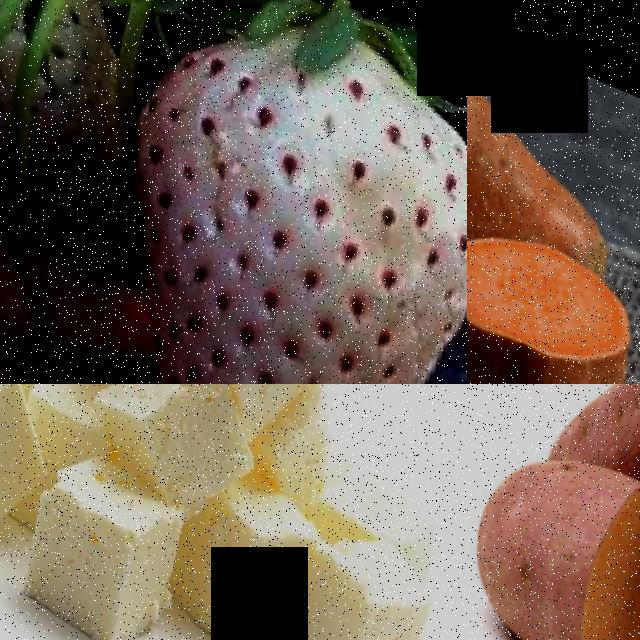strawberry: (1, 0, 467, 384)
sweet potato: (467, 409, 640, 640), (467, 45, 640, 258), (467, 190, 640, 384), (552, 384, 640, 536)
tofu: (0, 428, 197, 640), (256, 492, 443, 640), (81, 384, 275, 514), (189, 465, 317, 640), (0, 384, 71, 562)
